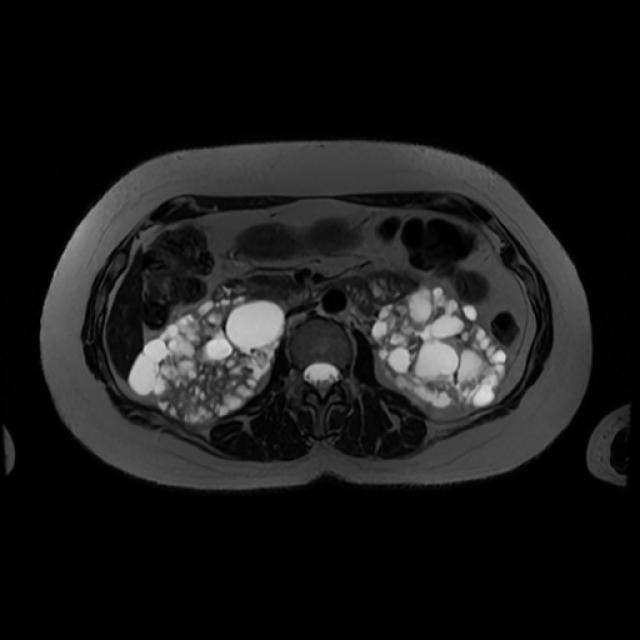sag: (128, 296, 289, 425)
sol: (371, 285, 510, 411)
